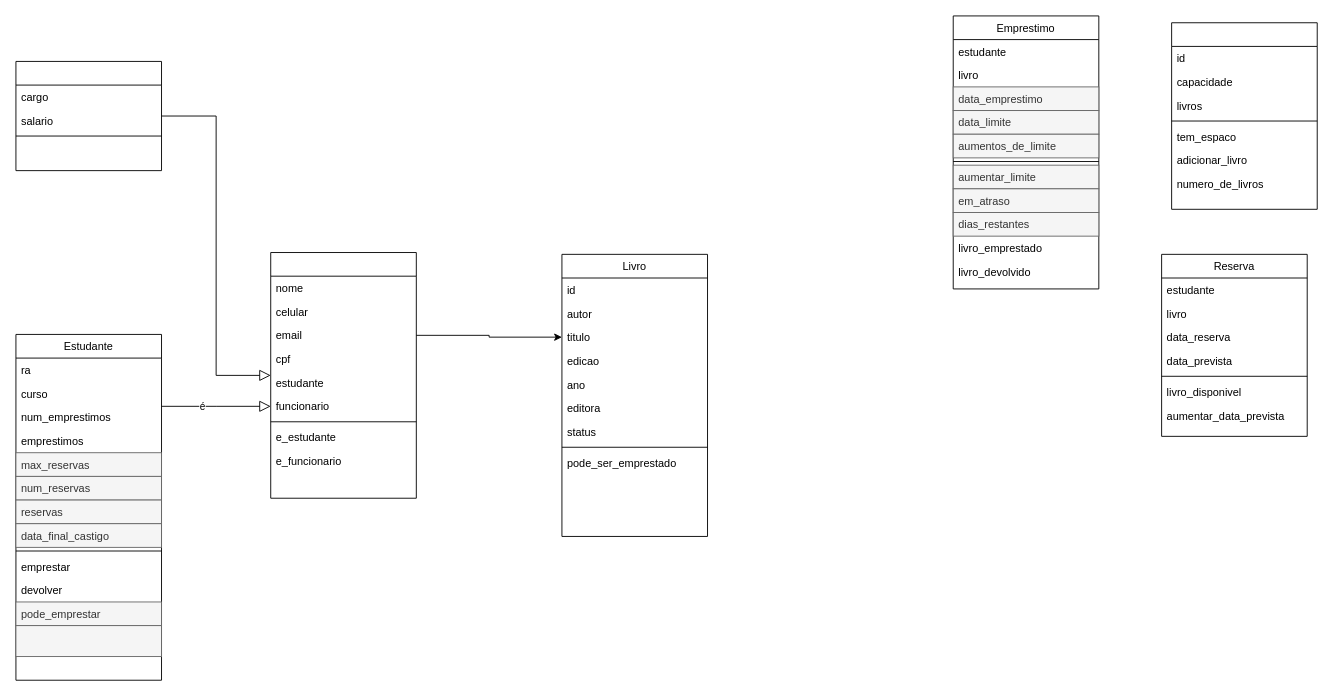
Image size: 1333x696. Some labels were removed from this diagram. Here are the shapes that lost their labels. From the top down, the box of each, then its label:
(15, 61, 162, 171): Funcionário
(1171, 22, 1317, 209): Estante
(270, 252, 416, 498): Pessoa
(15, 625, 162, 657): castigar
